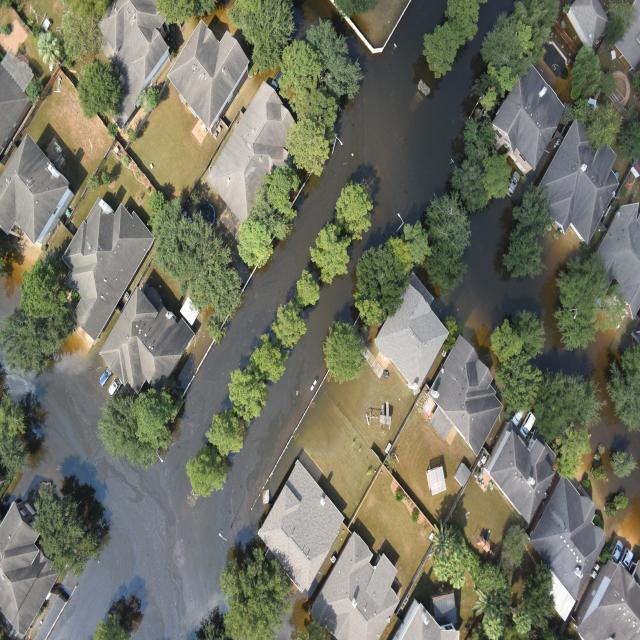fire: (30, 0, 481, 639), (461, 199, 576, 367), (590, 398, 640, 546), (558, 317, 637, 398), (293, 0, 349, 37)
